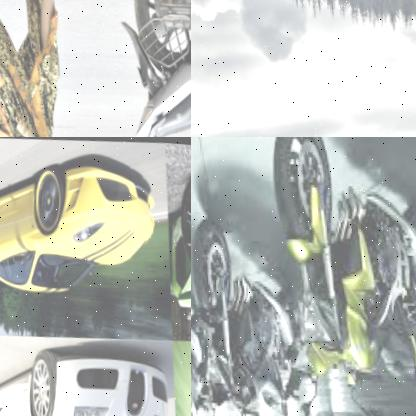bike: (269, 137, 416, 406), (191, 215, 309, 416), (121, 0, 191, 137), (191, 237, 220, 416)
car: (0, 144, 161, 304), (0, 343, 175, 416)
